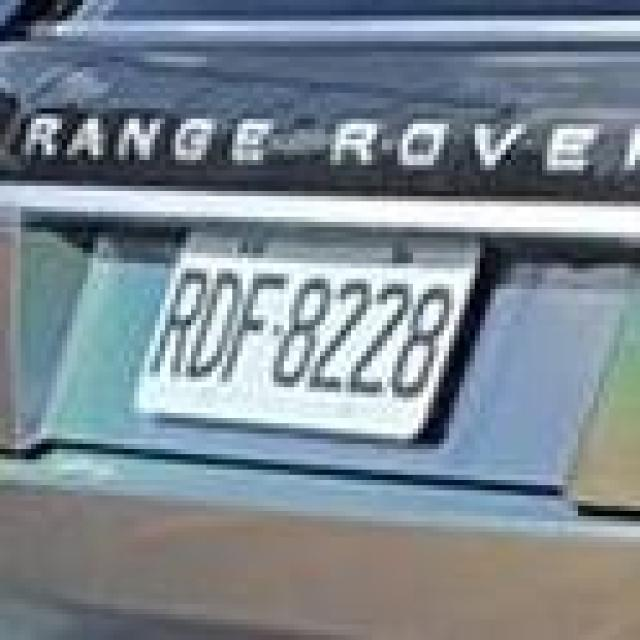W: (129, 227, 489, 448)
